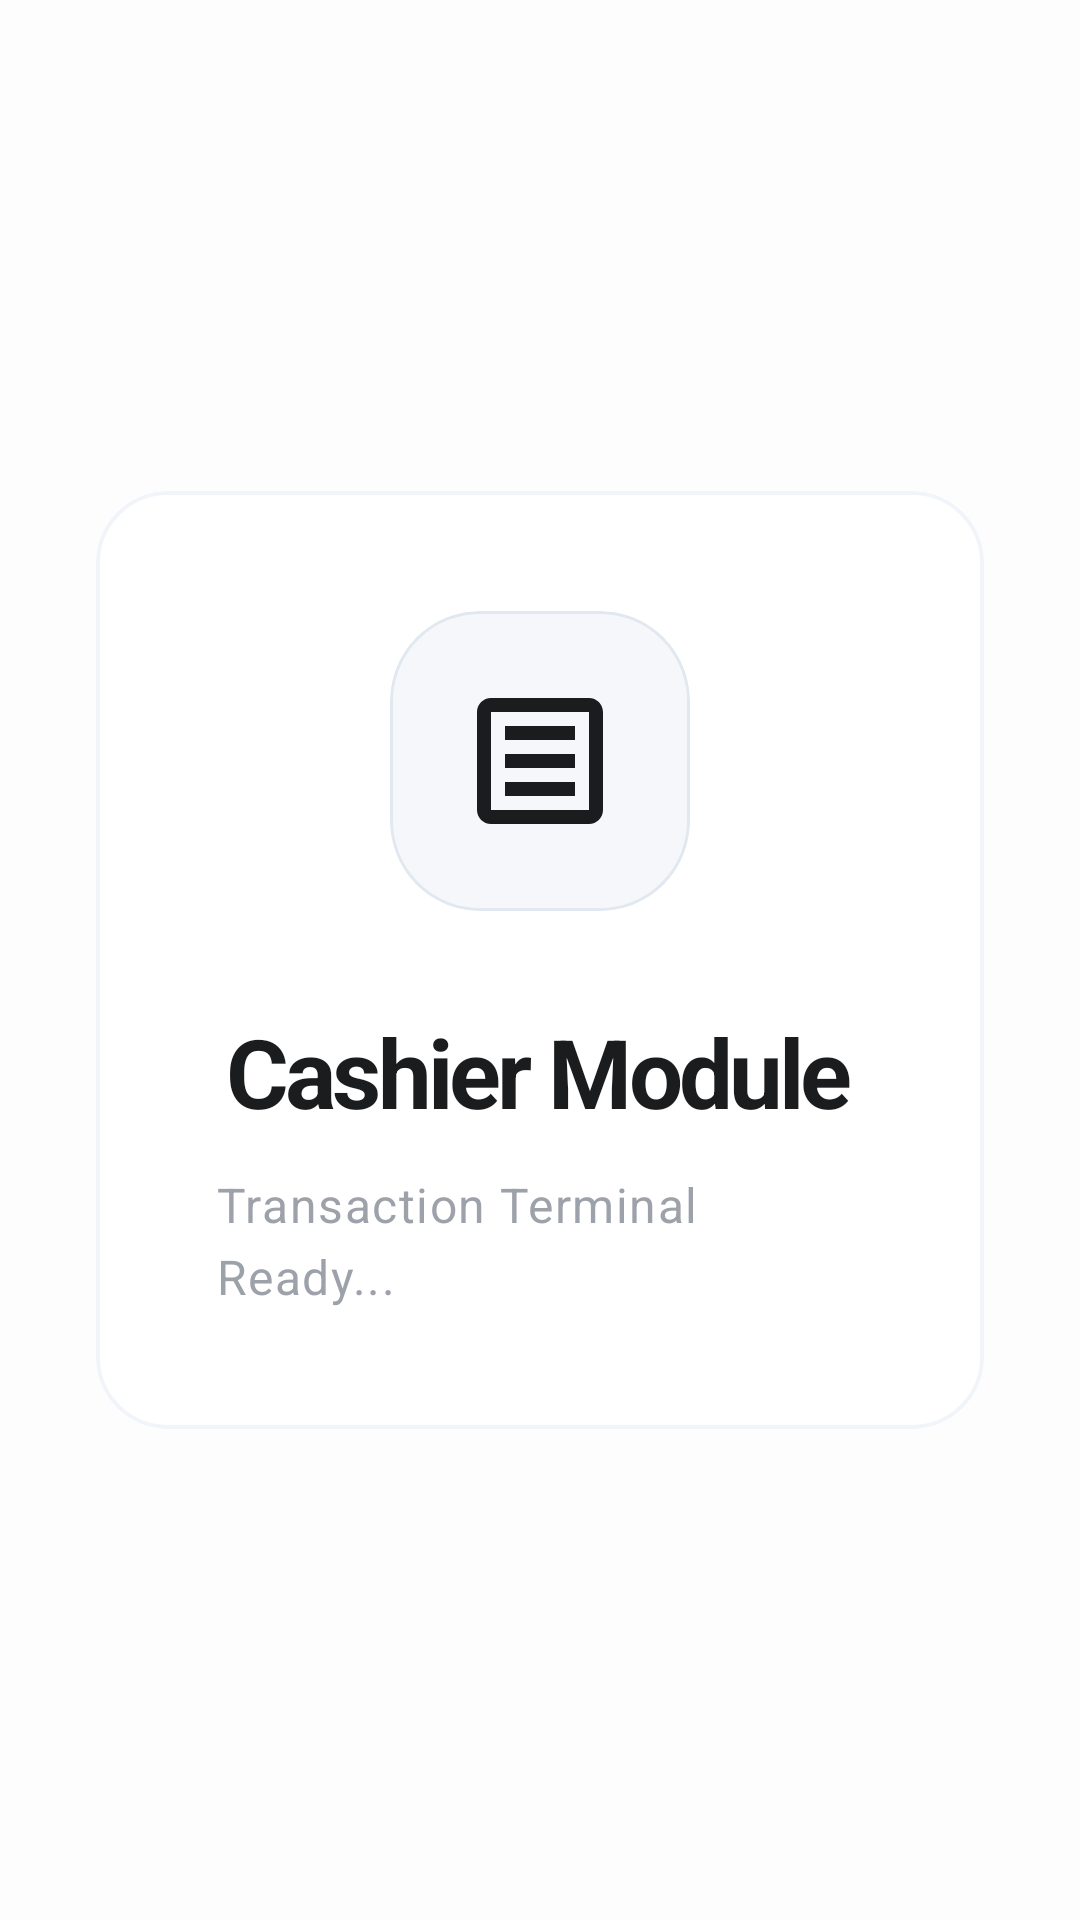

Named icons in this screenshot (1080px×1920px) and their centers, (x,y):
transaction: (540,761)
